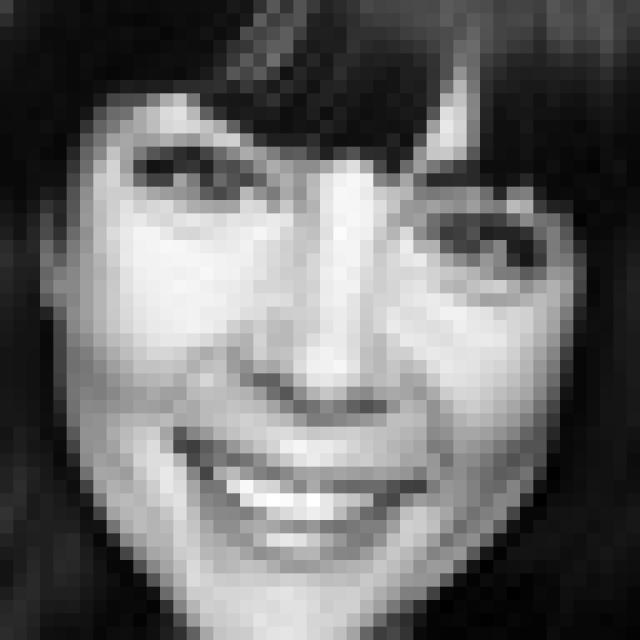happy: (97, 110, 558, 597)
